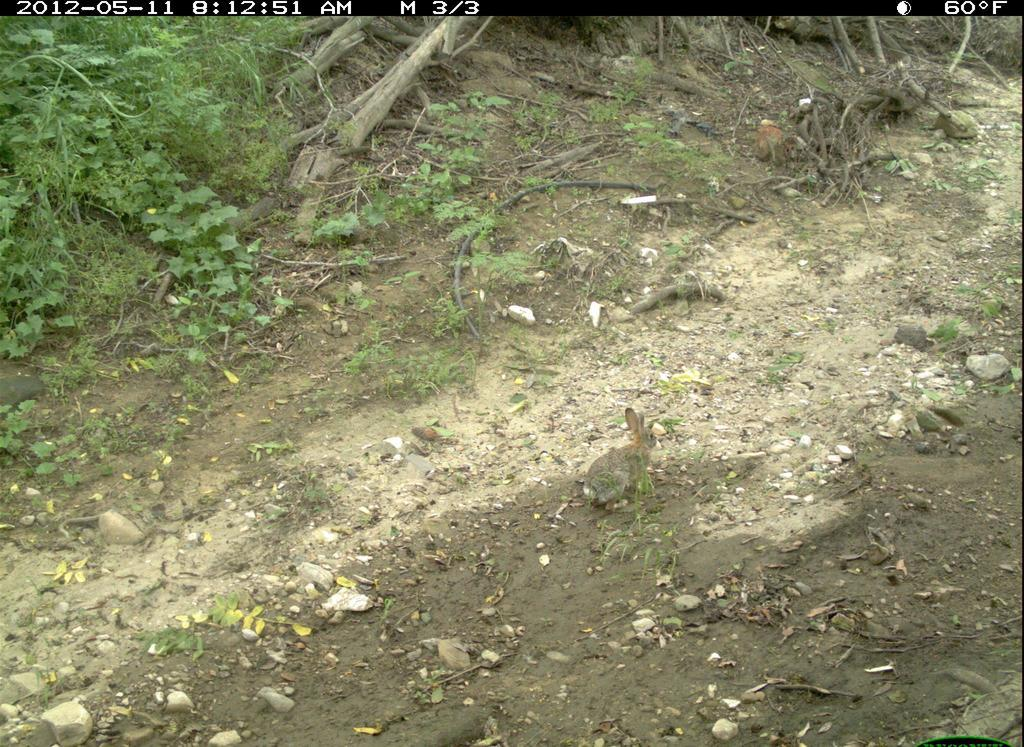rabbit: (575, 401, 671, 520)
